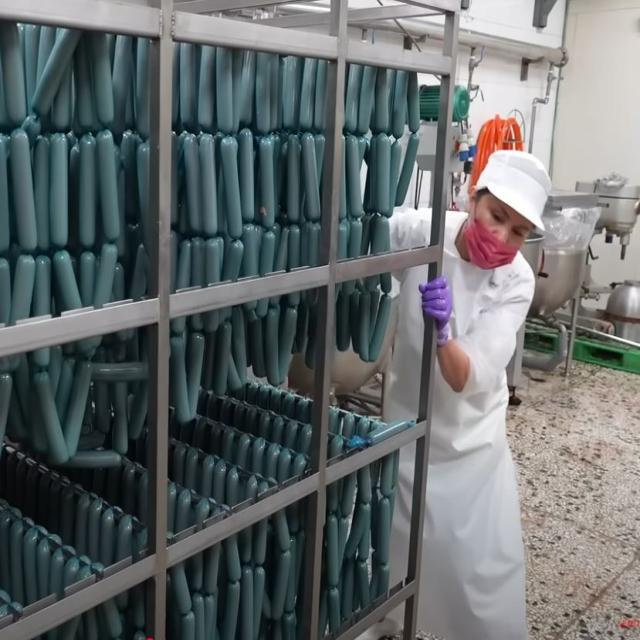gloved_hand: (410, 273, 456, 335)
